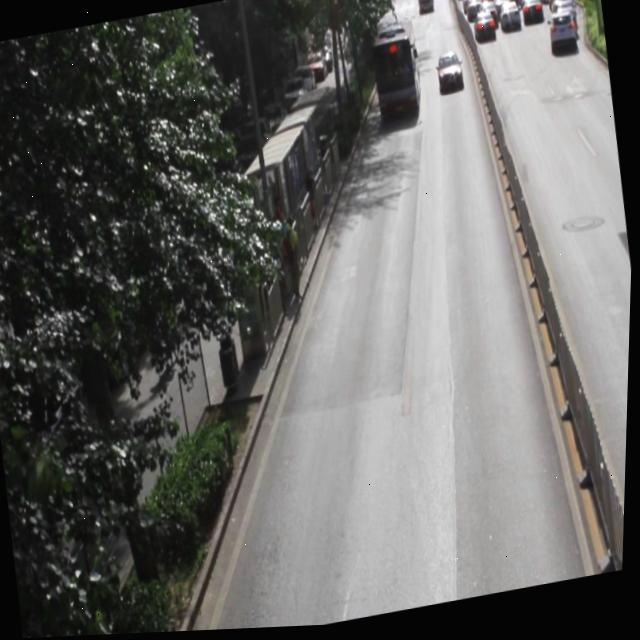car: (433, 54, 464, 98)
van: (368, 20, 425, 121)
